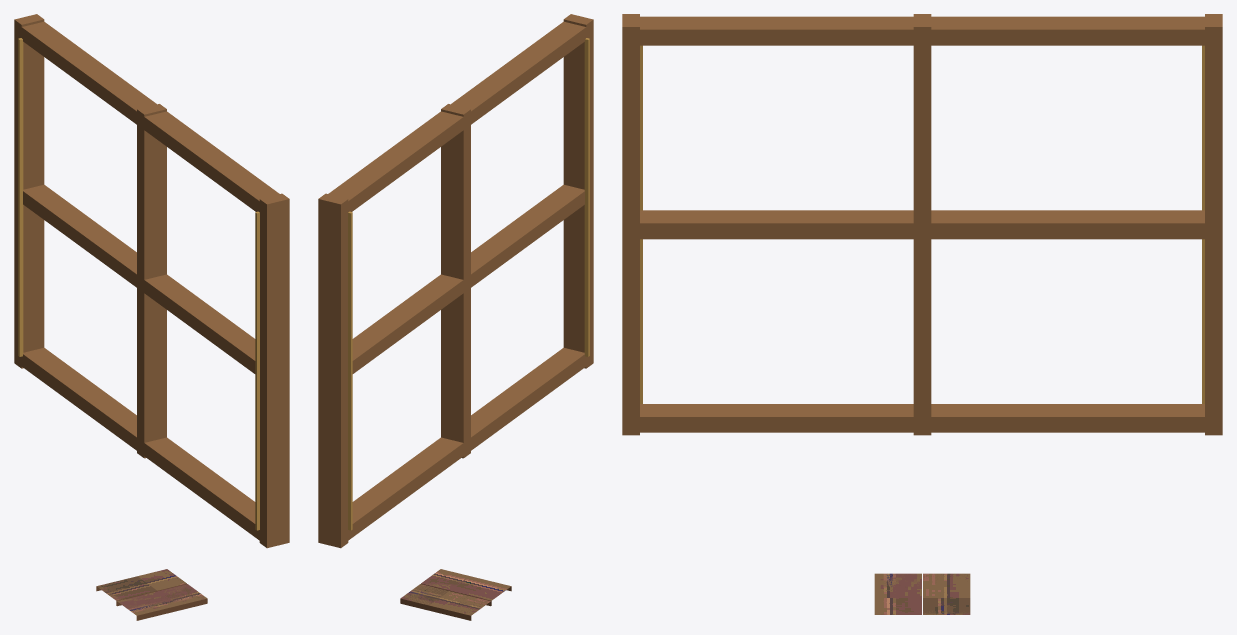
Rendered from wood-floor-window.glb.
3 renders of one model, left to right at view 1: azimuth 30°, elevation 25°; view 2: azimuth 150°, elevation 25°; view 3: azimuth 270°, elevation 25°, orthographic. The views are drawn at different scales.
Visible parts, largest first — view 1: WindowFrame, FloorTile0, FloorTile1, FloorTile2; view 2: WindowFrame, FloorTile0, FloorTile2; view 3: WindowFrame, FloorTile0, FloorTile1, FloorTile2.
Boxes of the visible parts, x1=… form: WindowFrame: x1=14, y1=14, x2=289, y2=548; FloorTile0: x1=96, y1=569, x2=207, y2=620; FloorTile1: x1=117, y1=584, x2=207, y2=620; FloorTile2: x1=96, y1=569, x2=186, y2=605; WindowFrame: x1=318, y1=14, x2=593, y2=548; FloorTile0: x1=400, y1=569, x2=511, y2=620; FloorTile2: x1=400, y1=584, x2=490, y2=619; WindowFrame: x1=622, y1=14, x2=1222, y2=435; FloorTile0: x1=874, y1=573, x2=970, y2=614; FloorTile1: x1=874, y1=573, x2=921, y2=614; FloorTile2: x1=923, y1=573, x2=970, y2=614.
Size of the model in its own units: 0.5 by 3.29 by 3.09.
4 materials, 1 textured.
